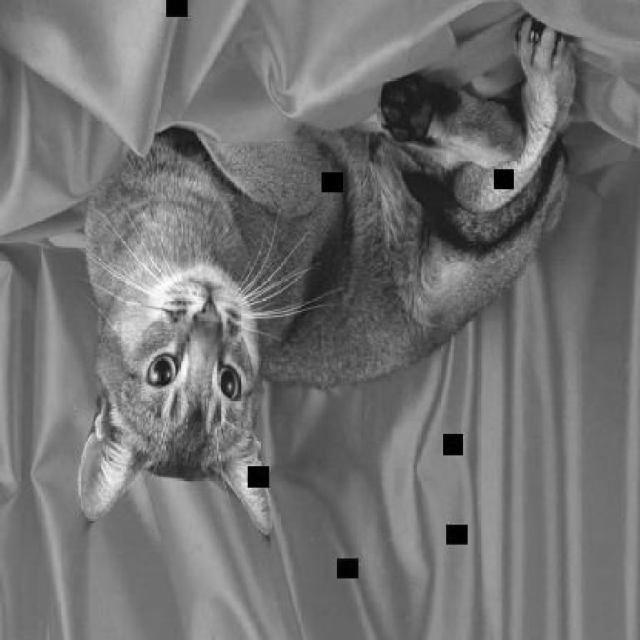Cat: (80, 10, 574, 536)
